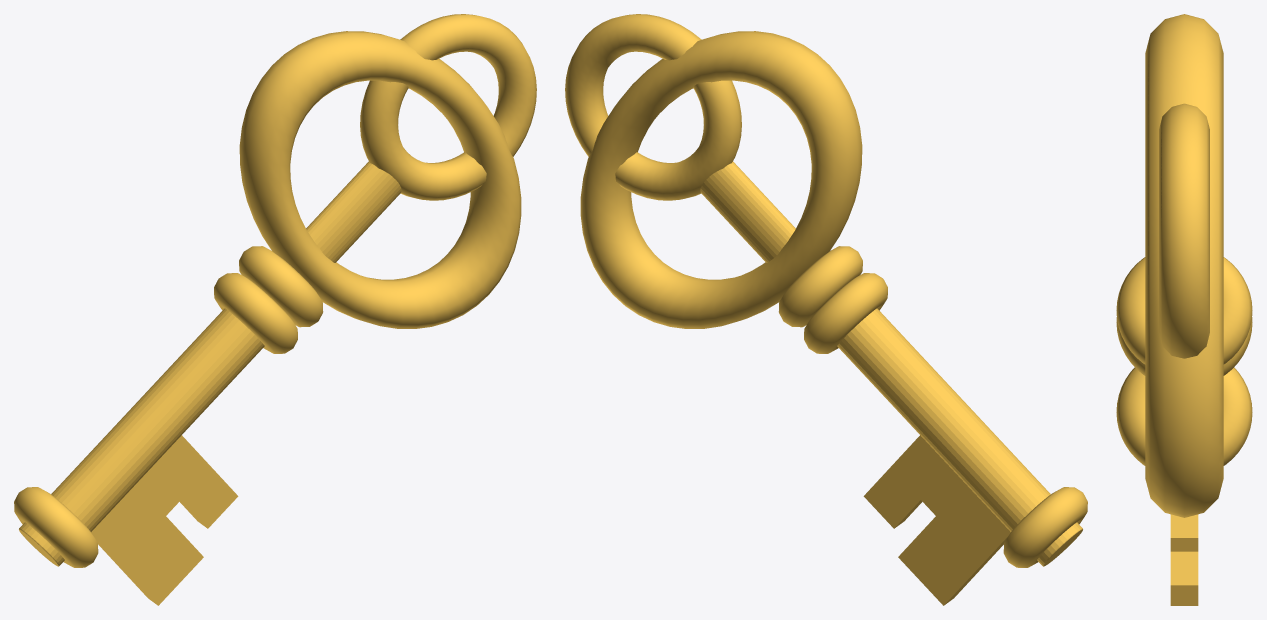
The model's file is Golden_Key.fbx.
3 renders of one model, left to right at view 1: azimuth 30°, elevation 25°; view 2: azimuth 150°, elevation 25°; view 3: azimuth 270°, elevation 25°, orthographic. The views are drawn at different scales.
Parts seen in each view (by area): view 1: Key; view 2: Key; view 3: Key.
Part boxes in pixels (x1=…): Key: x1=14, y1=14, x2=536, y2=605; Key: x1=565, y1=14, x2=1087, y2=605; Key: x1=1116, y1=14, x2=1252, y2=605.
Bounding box in the file's own units: 216 × 211 × 37.44.
